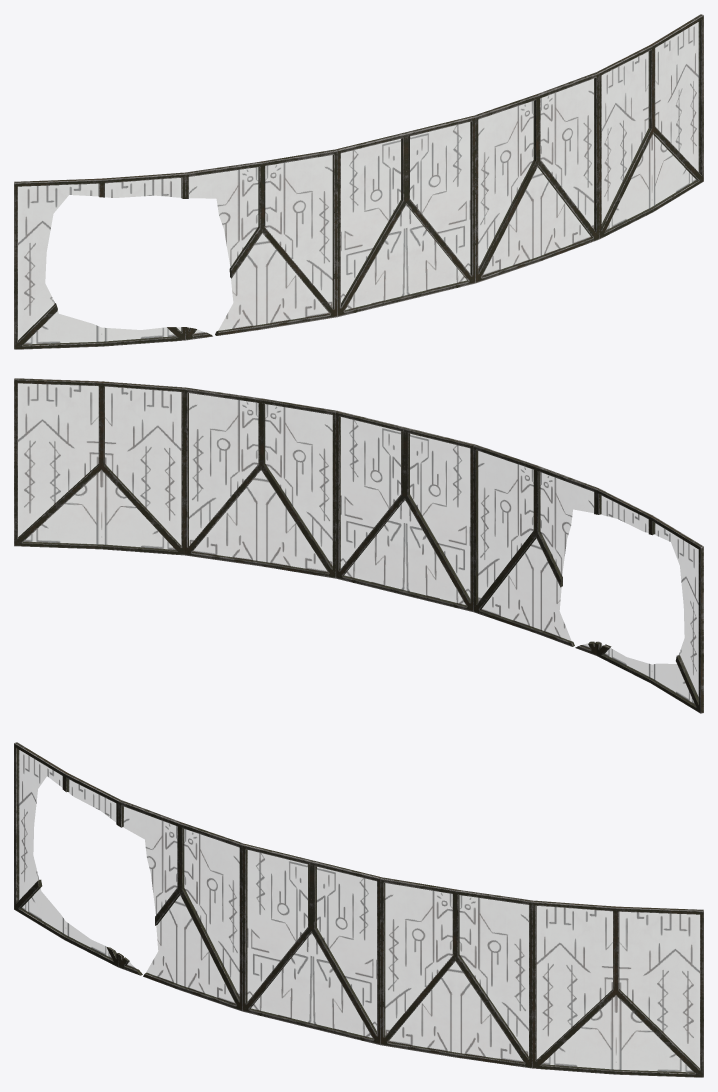
Rendered from window.gltf.
3 renders of one model, top to bottom at view 1: azimuth 30°, elevation 25°; view 2: azimuth 150°, elevation 25°; view 3: azimuth 330°, elevation 25°, orthographic.
Visible parts, largest first — view 1: Watchtower.002; view 2: Watchtower.002; view 3: Watchtower.002.
Boxes of the visible parts, x1,y1,x2,y2 form: Watchtower.002: [14, 14, 703, 349]; Watchtower.002: [14, 378, 703, 713]; Watchtower.002: [14, 742, 703, 1077].
Bounding box in the file's own units: 63.17 × 14.58 × 7.79.
1 material, 1 textured.
